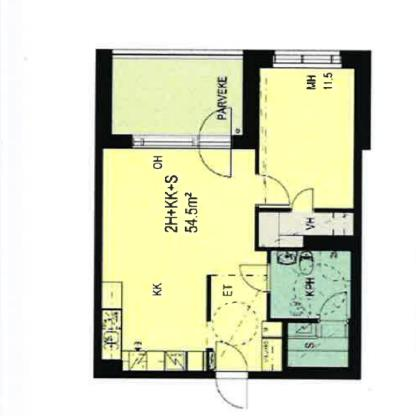door: (197, 105, 240, 182), (213, 341, 255, 411), (257, 174, 292, 210), (289, 183, 314, 214)
window: (112, 49, 241, 60), (276, 48, 340, 70), (131, 133, 202, 150)
zone: (103, 148, 281, 372), (260, 68, 350, 208), (113, 60, 242, 136), (271, 250, 348, 319), (256, 213, 354, 248), (290, 321, 347, 369)
